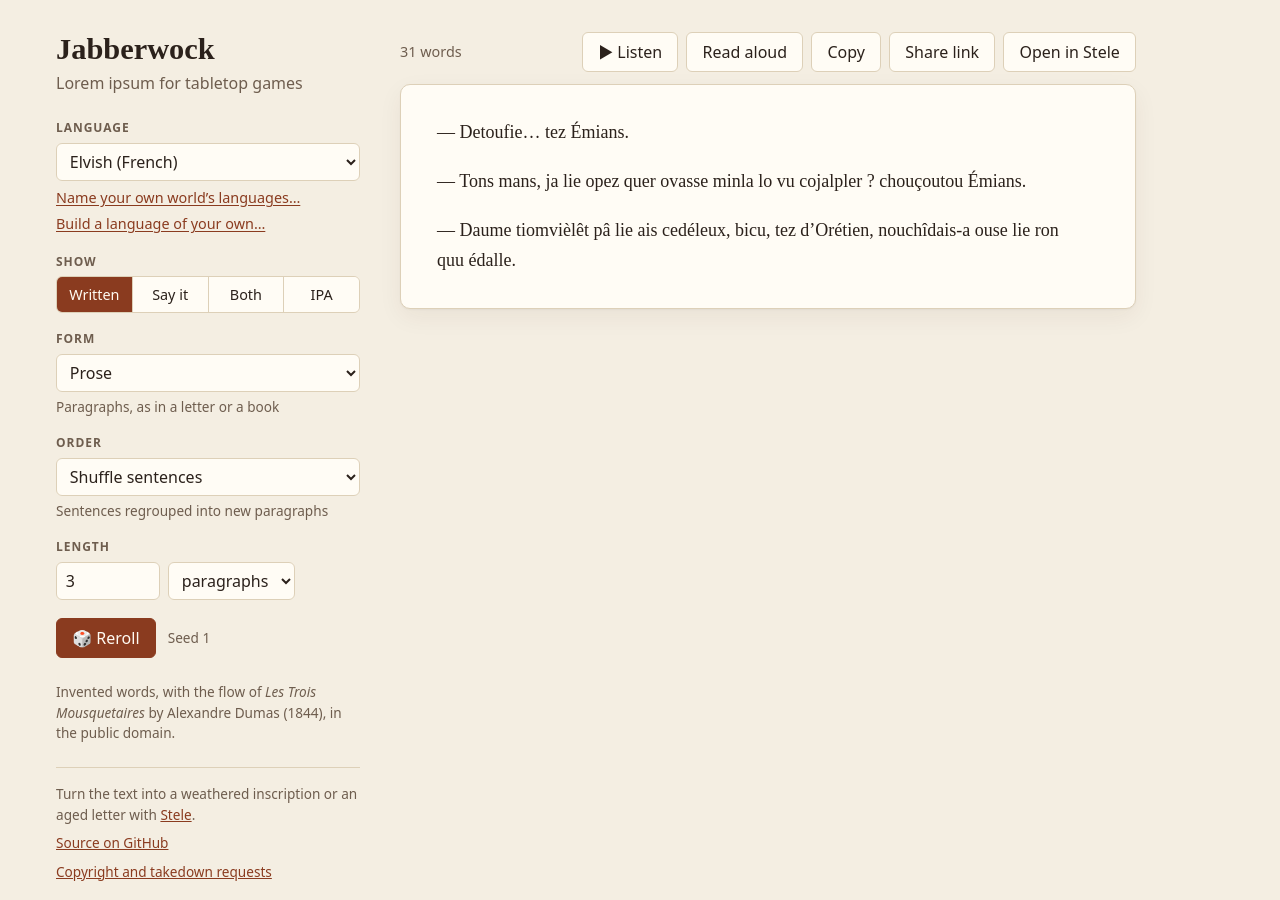
App › writes real French, with a "say it" line worked out from its spelling
Select "Real French" in the dropdown labelled "Language" at {"x": 208, "y": 162}, box [56, 142, 360, 181]
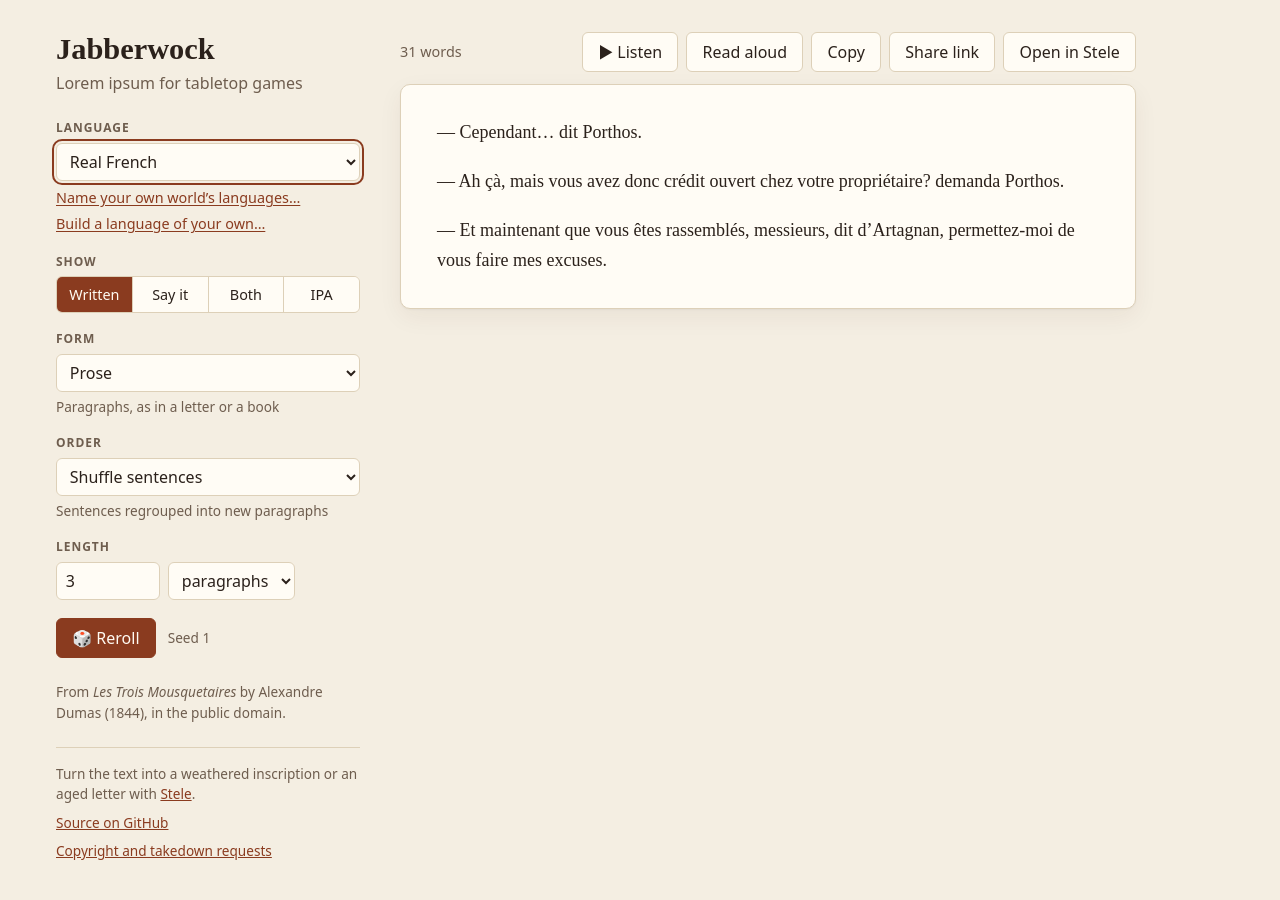
expect the text "From" reads "From Les Trois Mousquetaires by Alexandre Dumas (1844), in the public domain.": met, box [56, 682, 360, 723]
Click the radio button labelled "Say it" at {"x": 170, "y": 294}, box [132, 277, 208, 312]
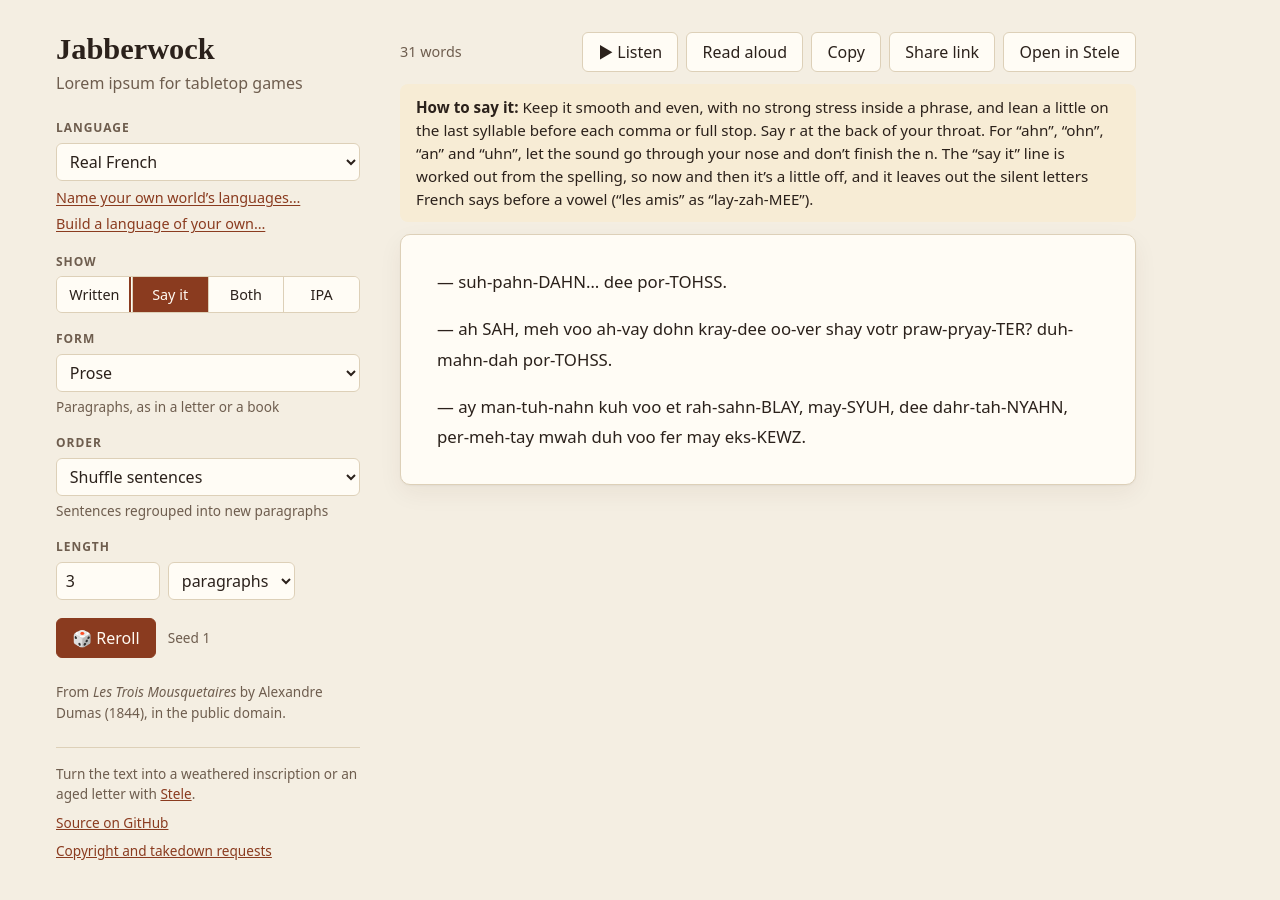
expect the text "worked out from the spelling" is shown: met, box [416, 97, 1109, 209]
